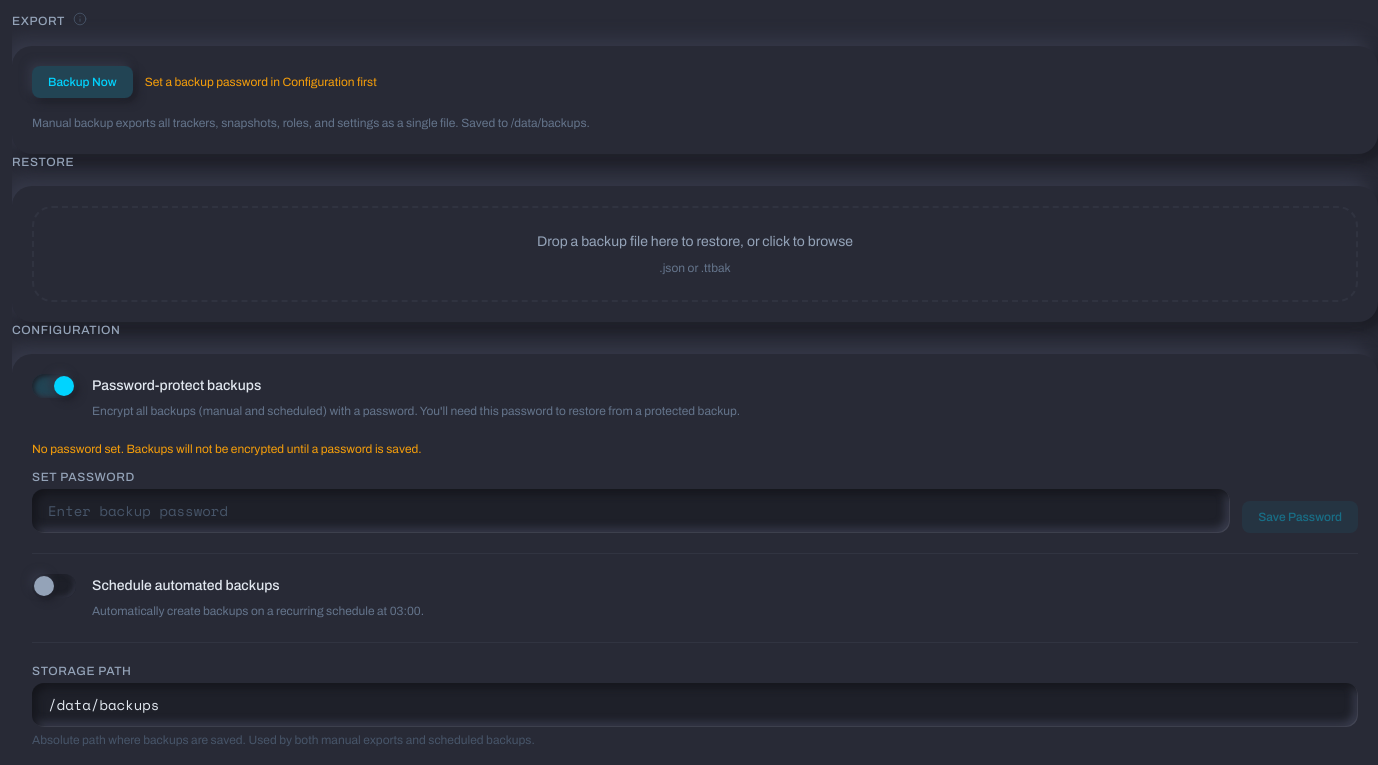
Test: BackupsSection errors › shows an export refusal once, in the Export card
Click the button "Backup Now" at [82, 82], box [32,66,133,98]
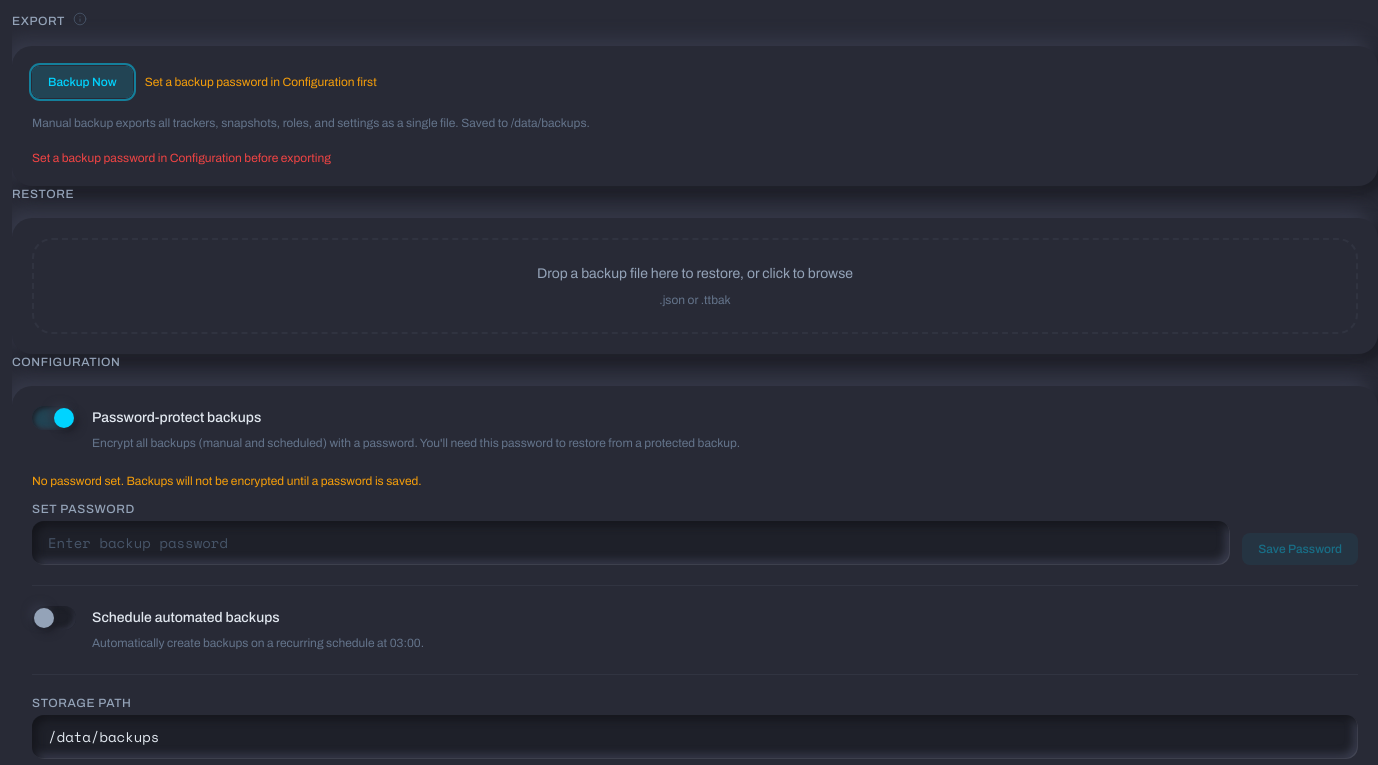
Expected: the text "Set a backup password in Configuration before exporting" is shown once, [32,150,331,164]
